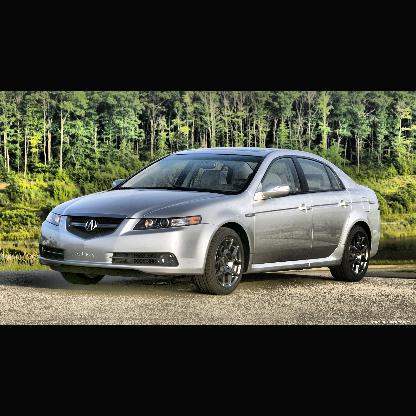Acura TL Type-S 2008: (39, 148, 382, 296)
